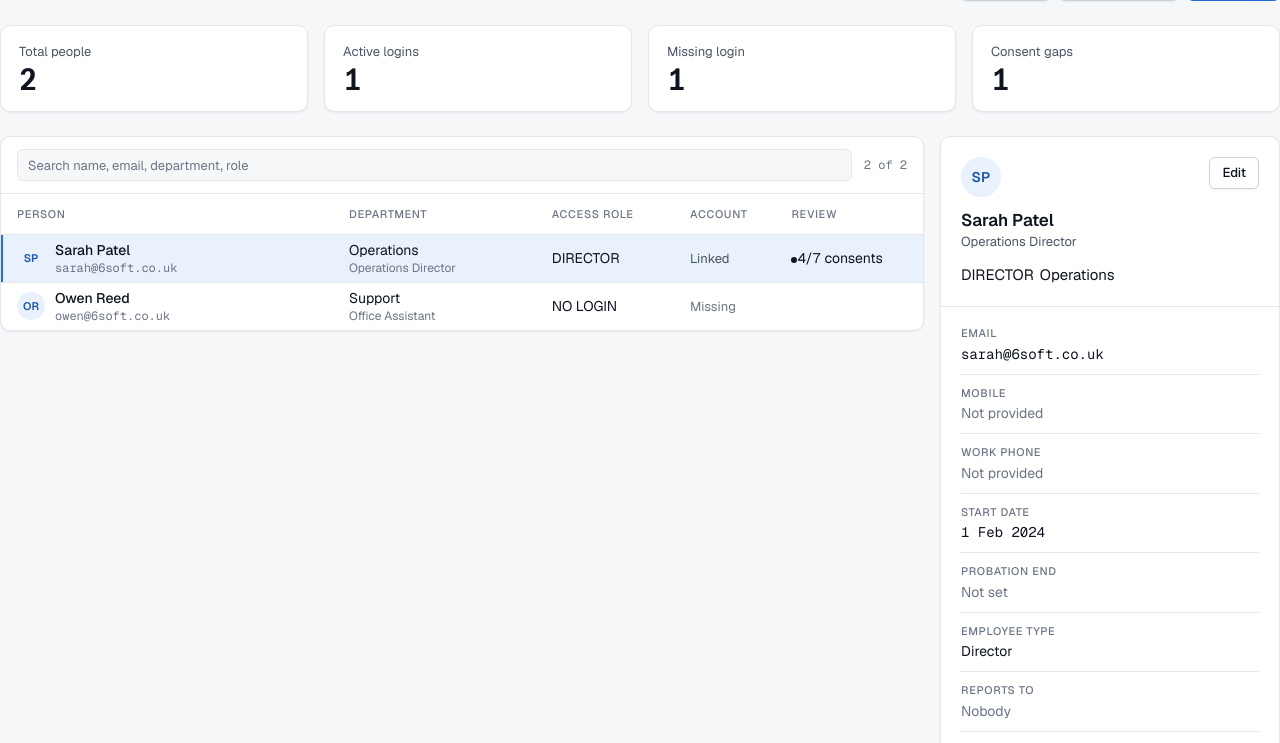
Unified user and employee management › opens the account form when editing an existing login from the full record
The image size is (1280, 743).
Click the row "Sarah Patel" at (462, 258), box [1,234,923,282]
(page scrolled)
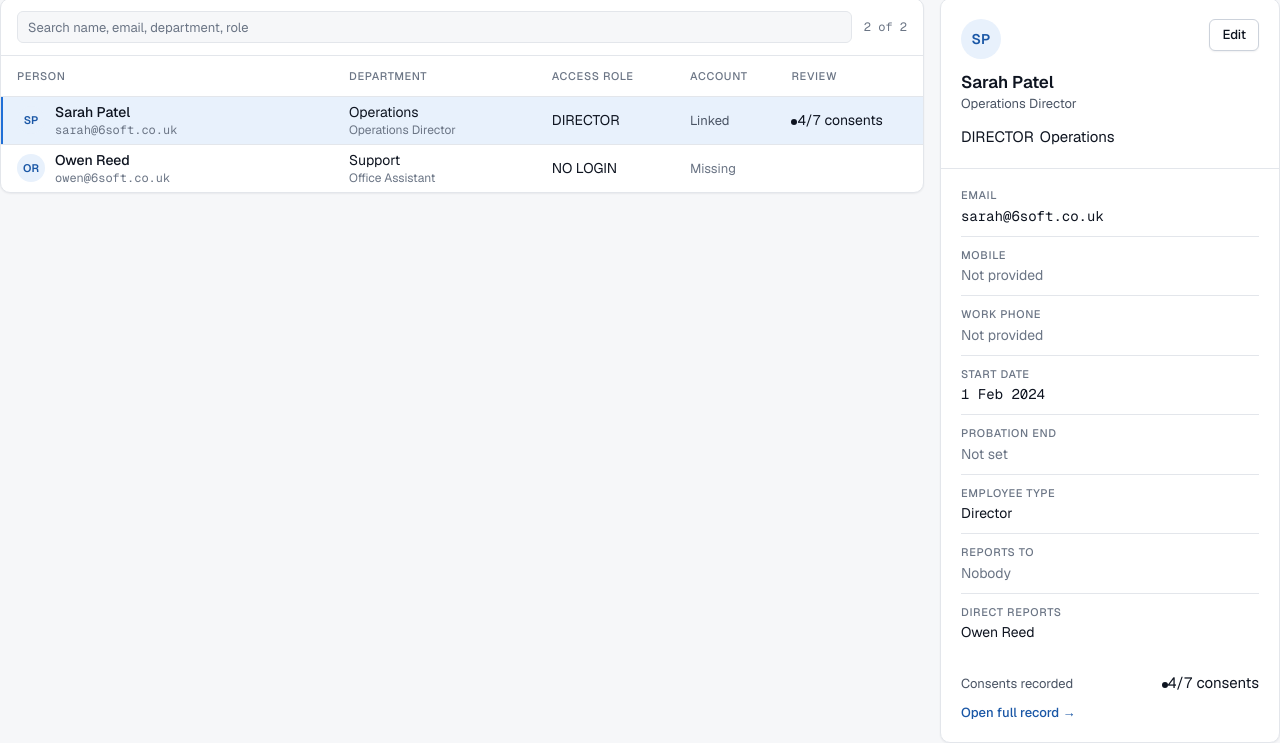
Click the button "Open full record →" at (1018, 713), box [961,703,1075,722]
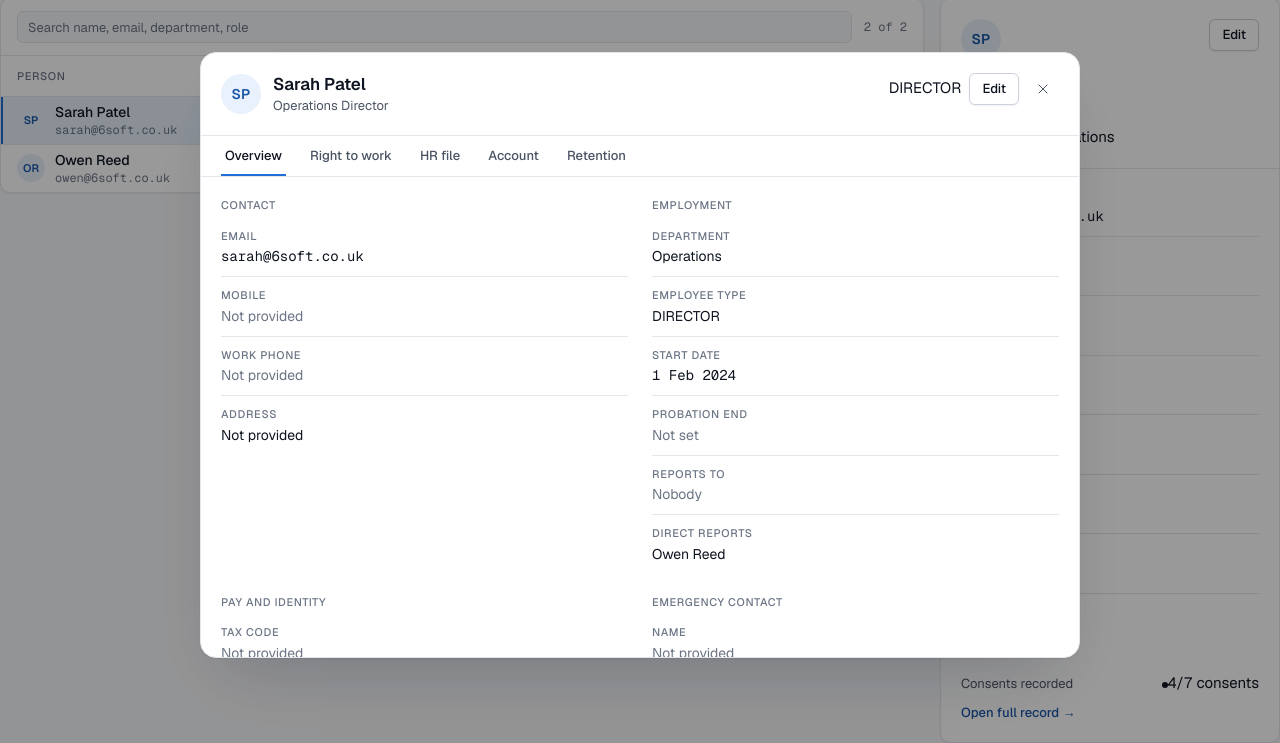
Click the tab "Account" at (514, 156), box [484,136,543,176]
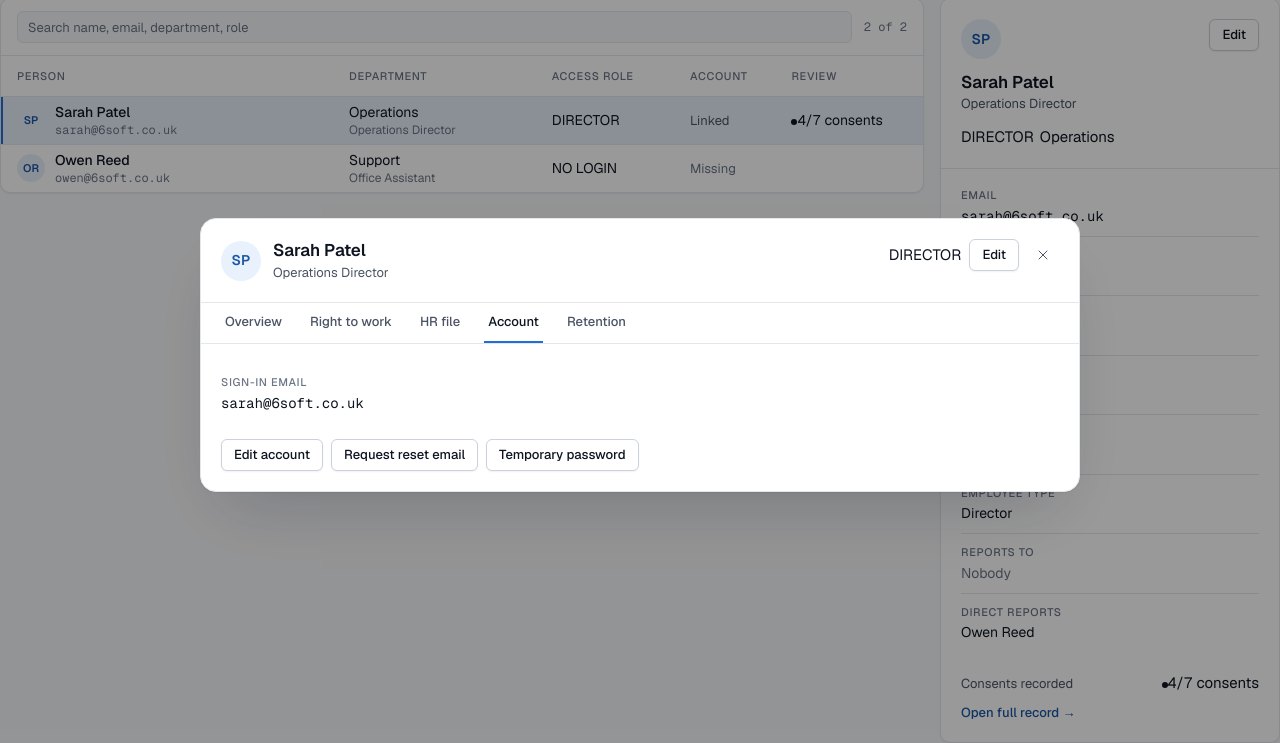
Click the button with aria-label "edit account for Sarah Patel" at (272, 455), box [221,439,323,471]
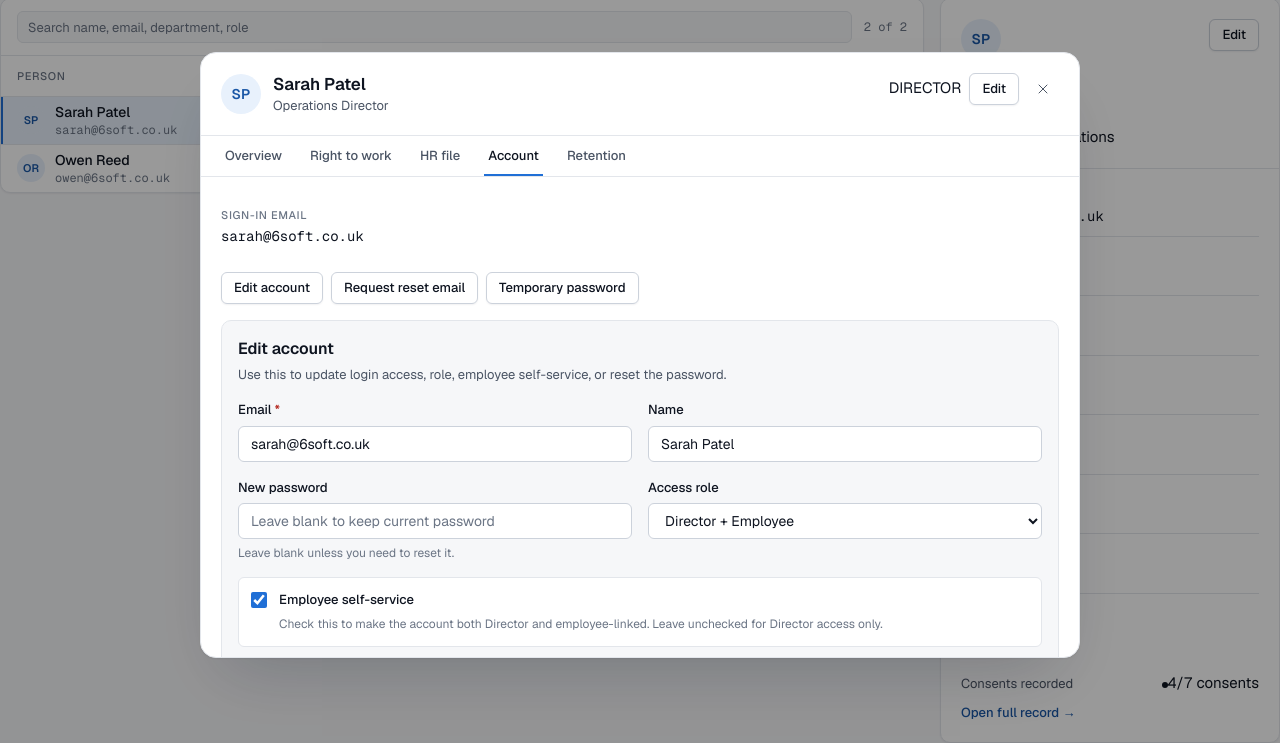
Check: the heading "Edit account" is shown, box [238,337,334,361]
Check: the field showing "sarah@6soft.co.uk" is shown, box [238,426,632,462]
Check: the text "update login access, role, employee self-service" is shown, box [238,366,726,383]
